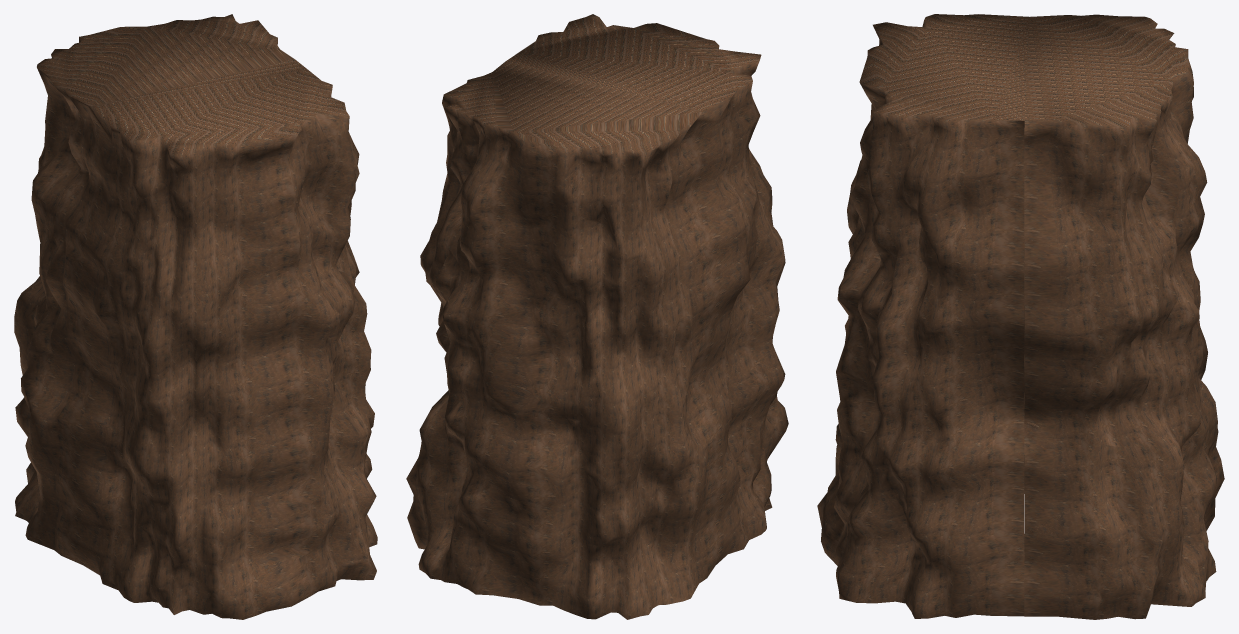
Rendered from CliffCore_LOD1.fbx.
3 renders of one model, left to right at view 1: azimuth 30°, elevation 25°; view 2: azimuth 150°, elevation 25°; view 3: azimuth 270°, elevation 25°, orthographic. The views are drawn at different scales.
Parts seen in each view (by area): view 1: CliffCore.001; view 2: CliffCore.001; view 3: CliffCore.001.
Part boxes in pixels (x1,y1,x2,y2): CliffCore.001: (14, 14, 377, 619); CliffCore.001: (406, 14, 788, 619); CliffCore.001: (817, 14, 1224, 619).
Bounding box in the file's own units: 52.17 × 64.29 × 84.05.
